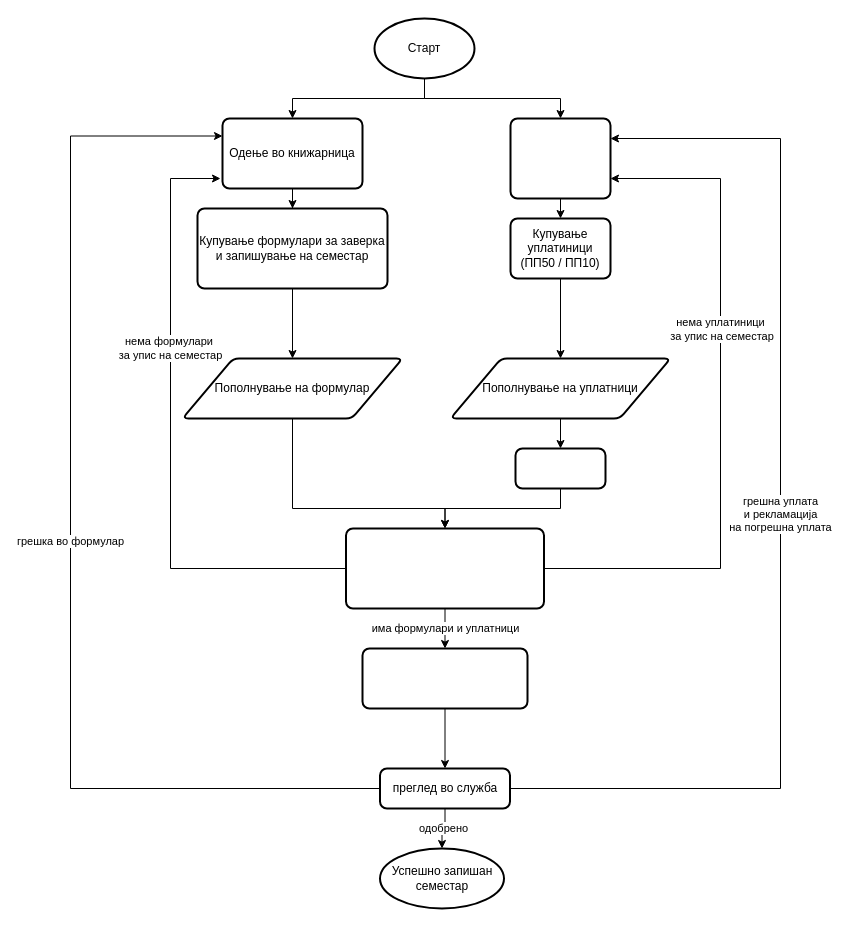
This 849x926 diagram has some shape labels left out. Here are the shapes that lost their labels. From the top down, the centre of each, then its label:
At point 560,158: "Одење во банка".
At point 560,468: "Уплата".
At point 444,568: "Проверка за набавување на потребни документи за запишување на семестар".
At point 444,678: "Доставување на формулари и уплатница".
